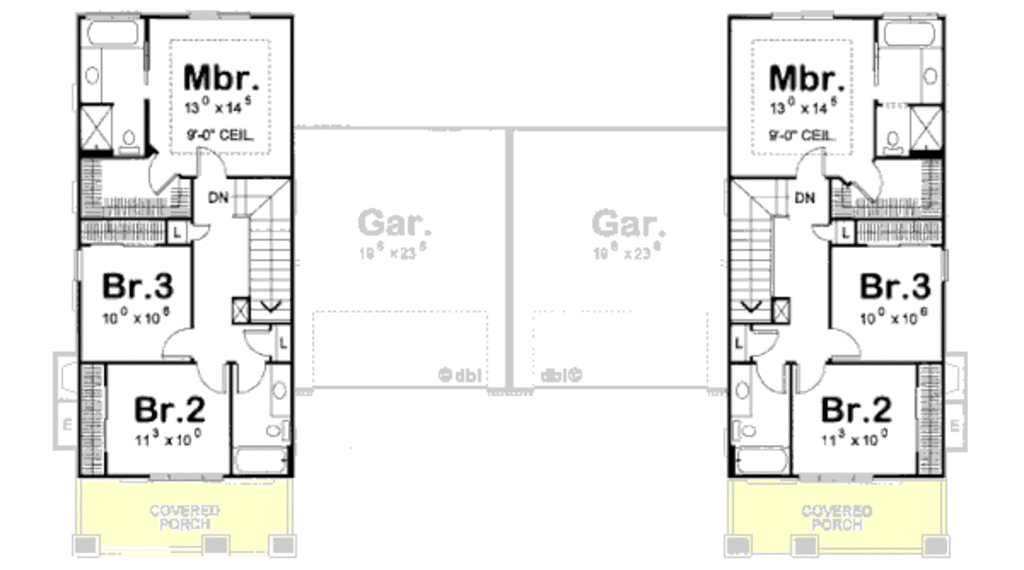door: (843, 155, 893, 205), (141, 149, 181, 200), (787, 143, 832, 186), (186, 138, 232, 180), (791, 359, 830, 400), (827, 326, 871, 361), (755, 362, 792, 400), (808, 219, 857, 247), (146, 330, 192, 359), (237, 357, 268, 398), (191, 360, 226, 396), (244, 326, 278, 361), (749, 327, 784, 356)
large_sink: (880, 122, 911, 158), (113, 124, 143, 157), (731, 423, 764, 446), (266, 418, 297, 438)
small_sink: (732, 359, 759, 420), (266, 363, 295, 419), (78, 47, 103, 103), (920, 47, 940, 103)
stairs: (222, 177, 298, 326), (721, 169, 793, 326)
tub: (82, 15, 150, 48), (875, 18, 945, 47), (734, 444, 791, 475), (236, 445, 293, 473)
